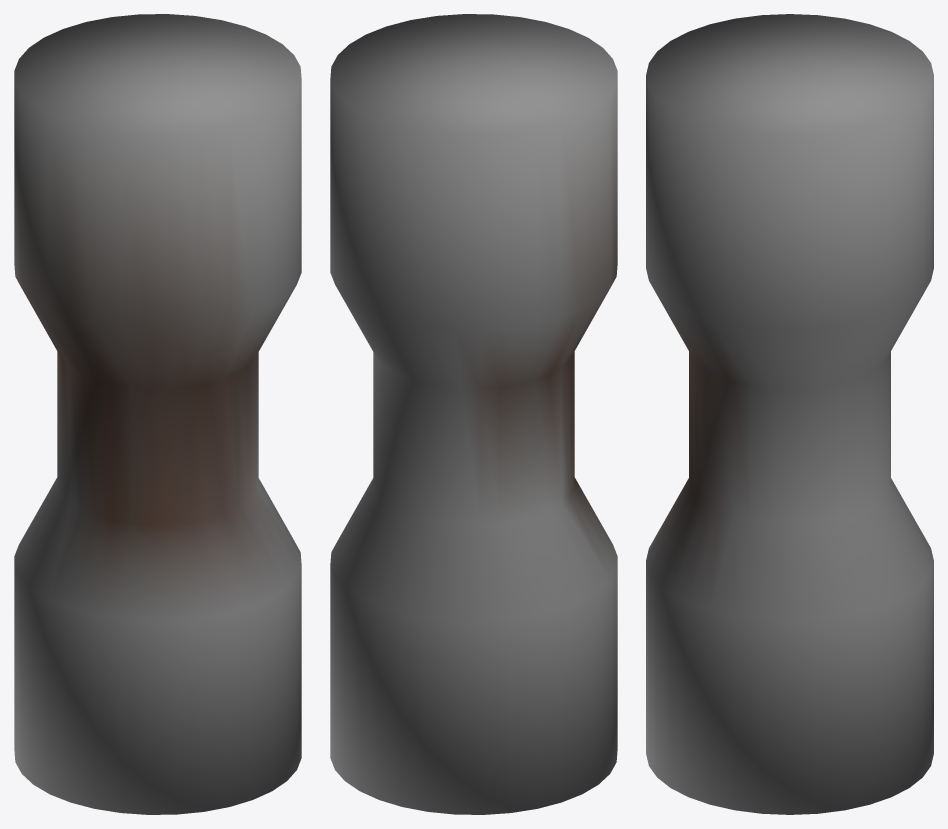
The model's file is Pillar 1.fbx.
3 views of the same model, side by side, from view 1: azimuth 30°, elevation 25°; view 2: azimuth 150°, elevation 25°; view 3: azimuth 270°, elevation 25° (orthographic).
Parts seen in each view (by area): view 1: PM3D_Cylinder3D1_125; view 2: PM3D_Cylinder3D1_125; view 3: PM3D_Cylinder3D1_125.
Part boxes in pixels (left/top/right/bottom): PM3D_Cylinder3D1_125: left=14, top=14, right=301, bottom=814; PM3D_Cylinder3D1_125: left=330, top=14, right=617, bottom=814; PM3D_Cylinder3D1_125: left=646, top=14, right=933, bottom=814.
Bounding box in the file's own units: 2612 × 6807 × 2612.
